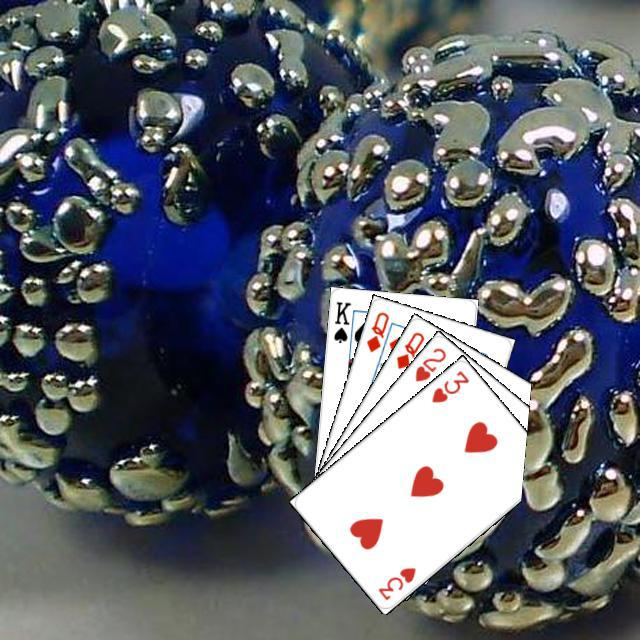2h: (410, 343, 448, 383)
3h: (373, 562, 418, 602), (427, 365, 471, 405)
Ks: (328, 296, 352, 345)
Qd: (391, 327, 426, 371), (361, 307, 390, 354)
